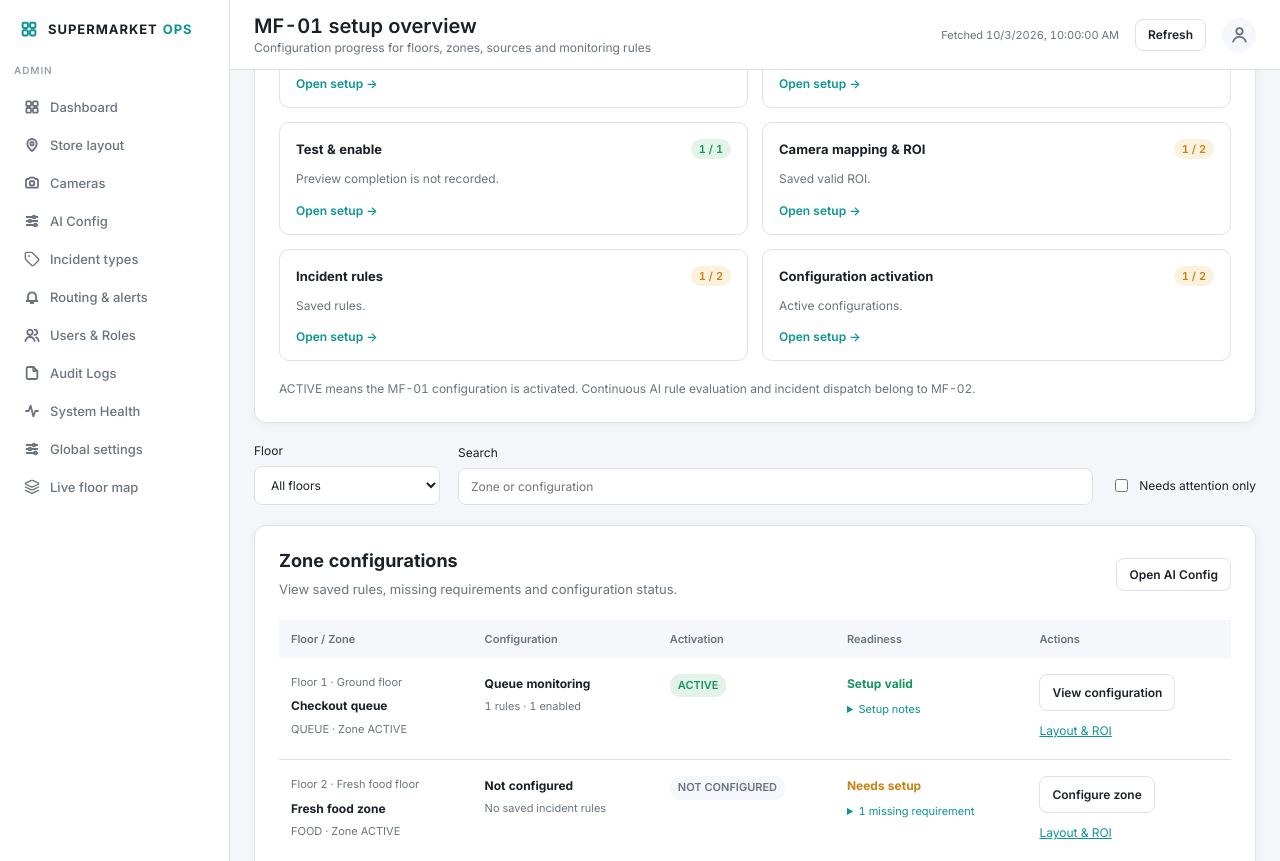
Test: MF-01 setup dashboard › filters zones by floor, search and missing setup
(page scrolled)
Check: the text "Checkout queue" is shown, box [291,698,388,713]
Select "Floor 2 · Fresh food floor" in the dropdown named "Filter dashboard by floor" at (347, 485), box [254,466,440,505]
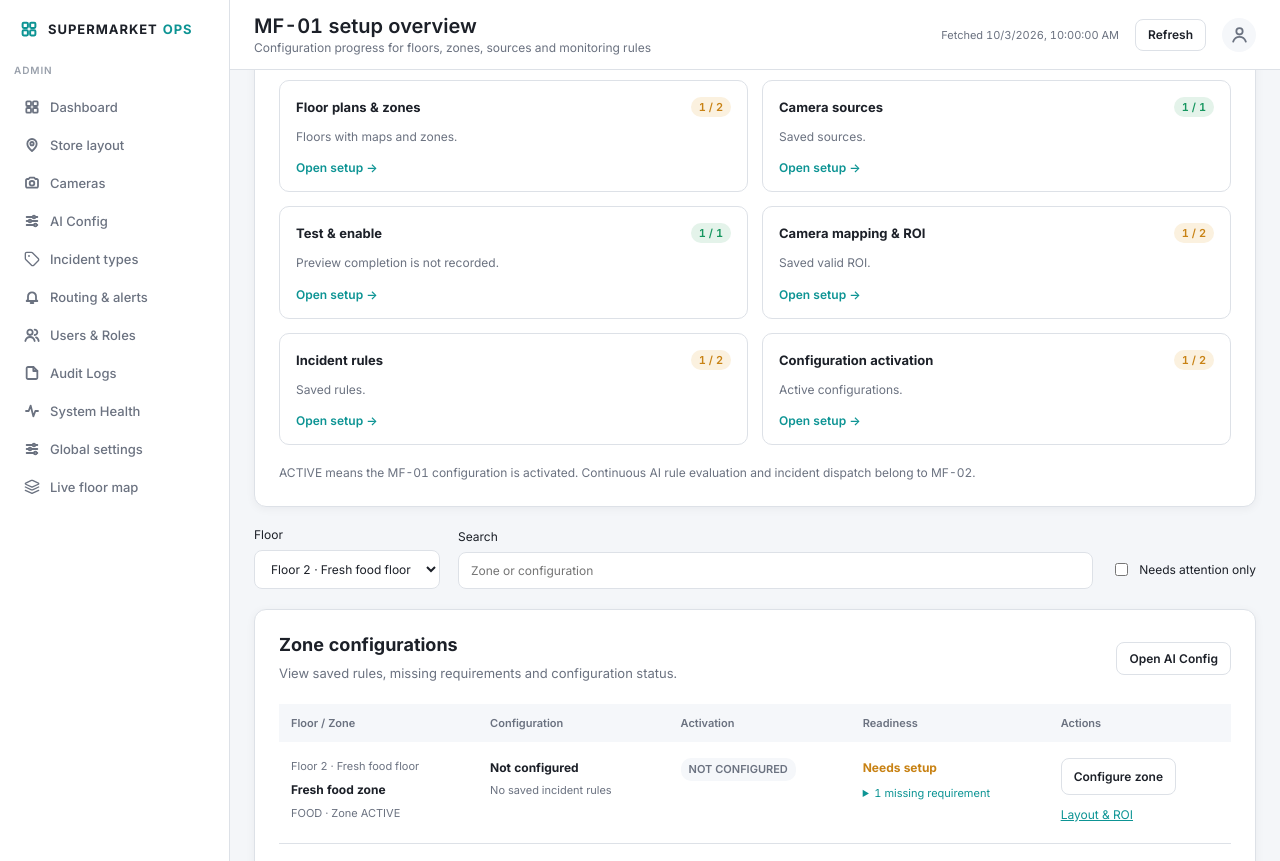
Check: the text "Fresh food zone" is shown, box [291,782,386,797]
Check: the text "Checkout queue" is gone
Select "All floors" in the dropdown named "Filter dashboard by floor" at (347, 569), box [254,550,440,589]
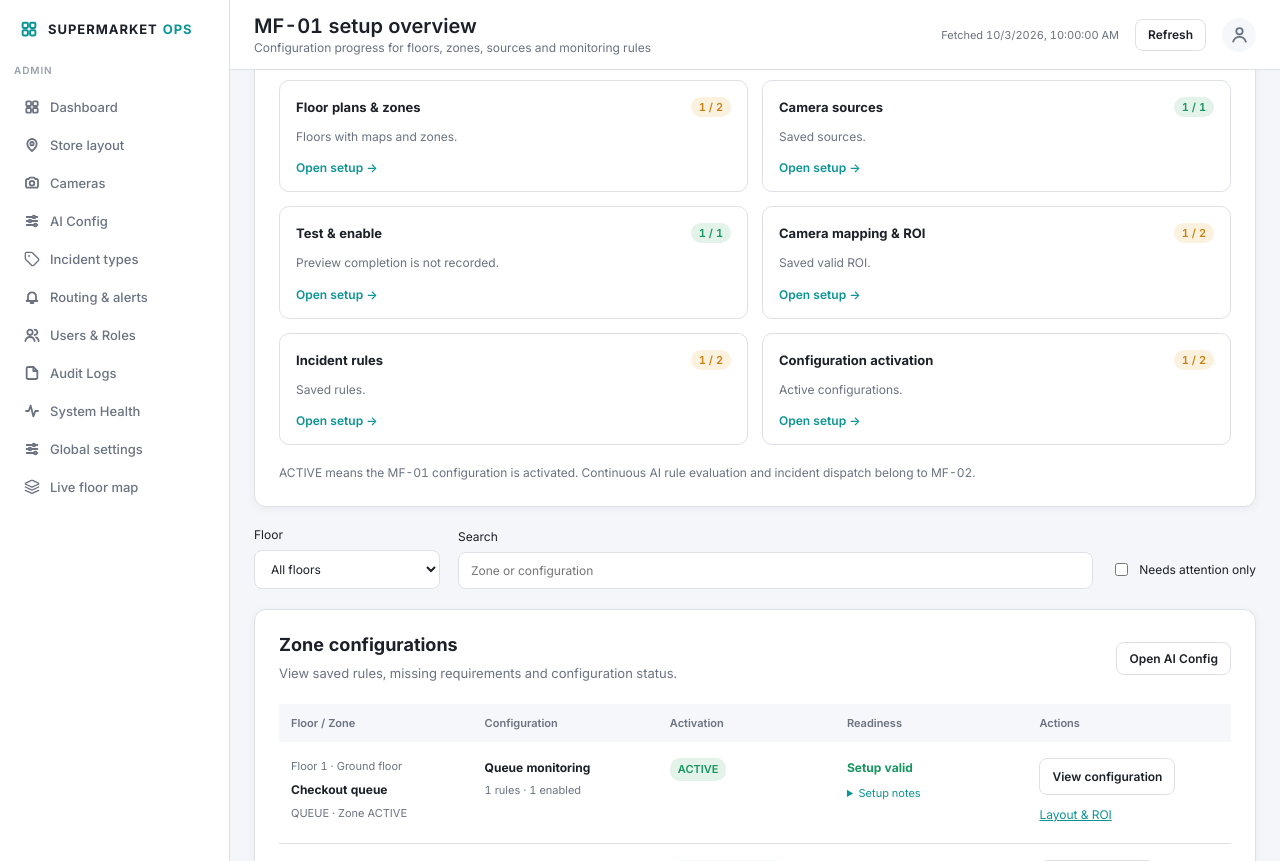
Type "Queue monitoring" into the field named "Search zones" at (776, 570), box [458,552,1093,589]
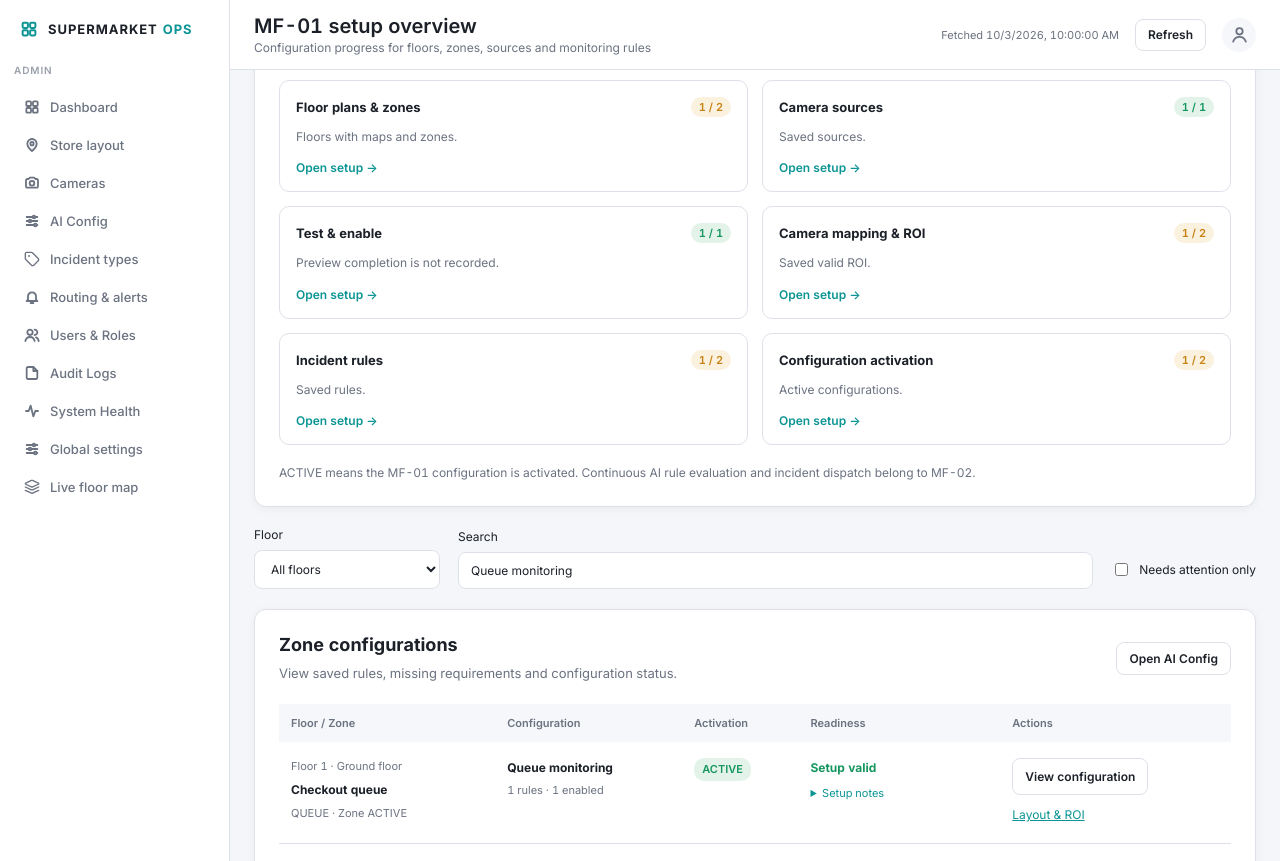
Check: the text "Checkout queue" is shown, box [291,782,388,797]
Clear the field named "Search zones" at (776, 570), box [458,552,1093,589]
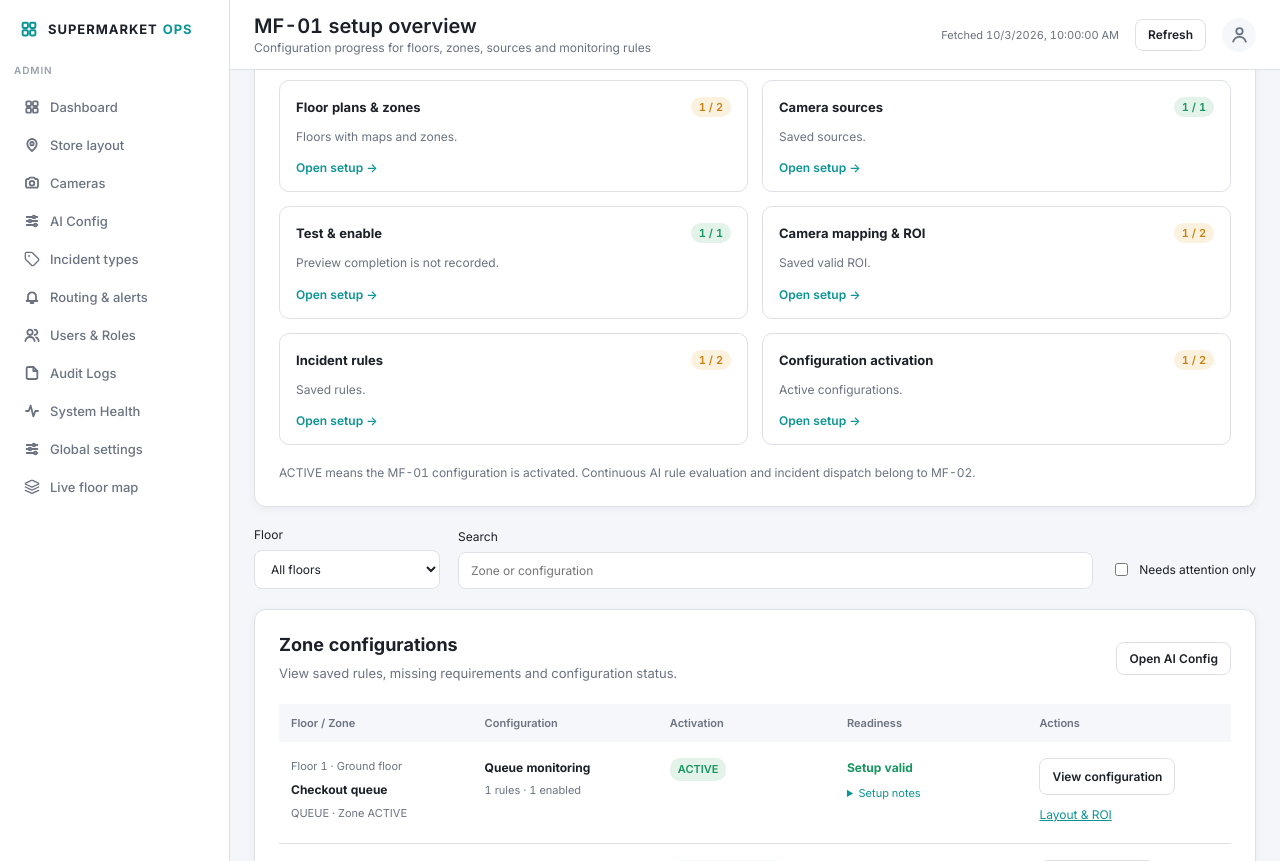
Click the checkbox labelled "Needs attention only" at (1122, 569), box [1115,563,1128,576]
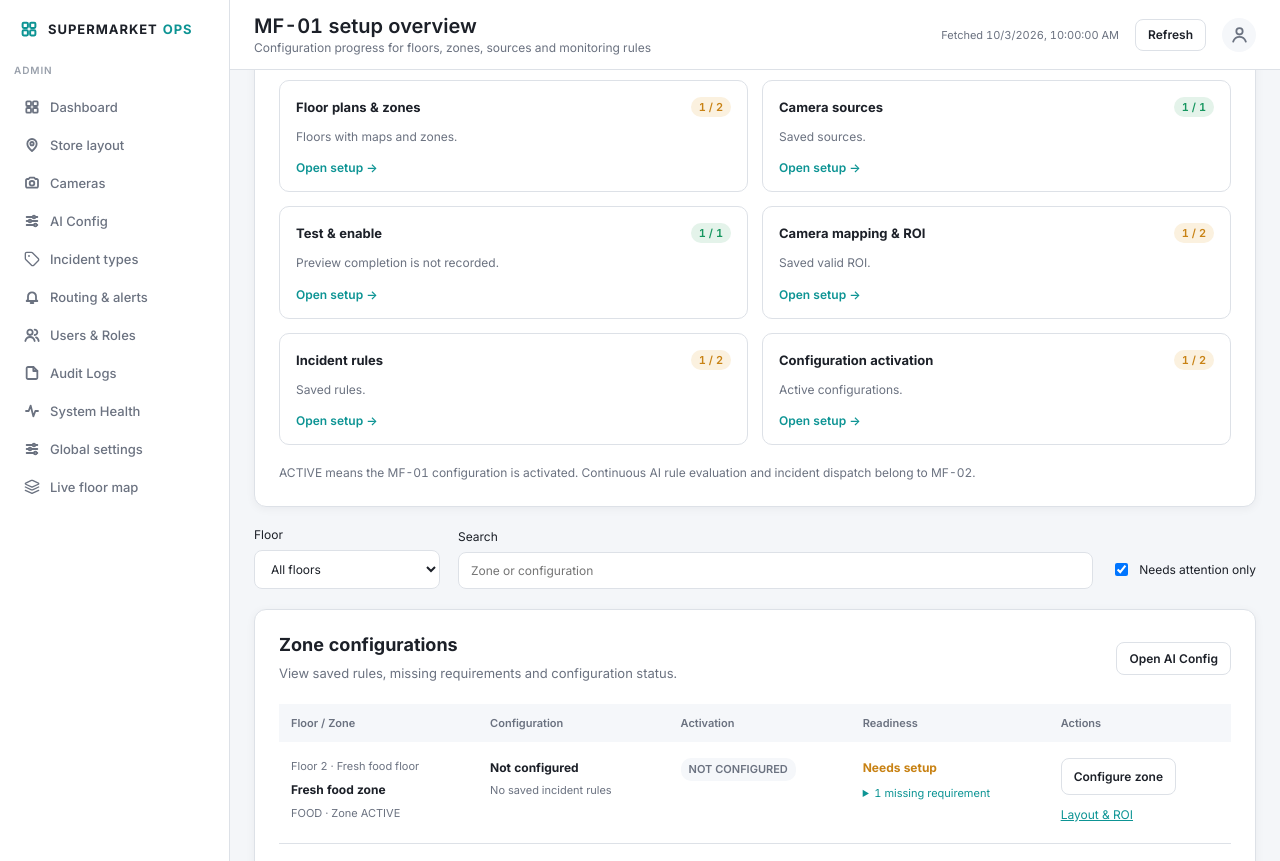
Check: the text "Fresh food zone" is shown, box [291,782,386,797]
Check: the text "Checkout queue" is gone
Click the heading "1 missing requirement" at (932, 793), box [874,786,990,800]
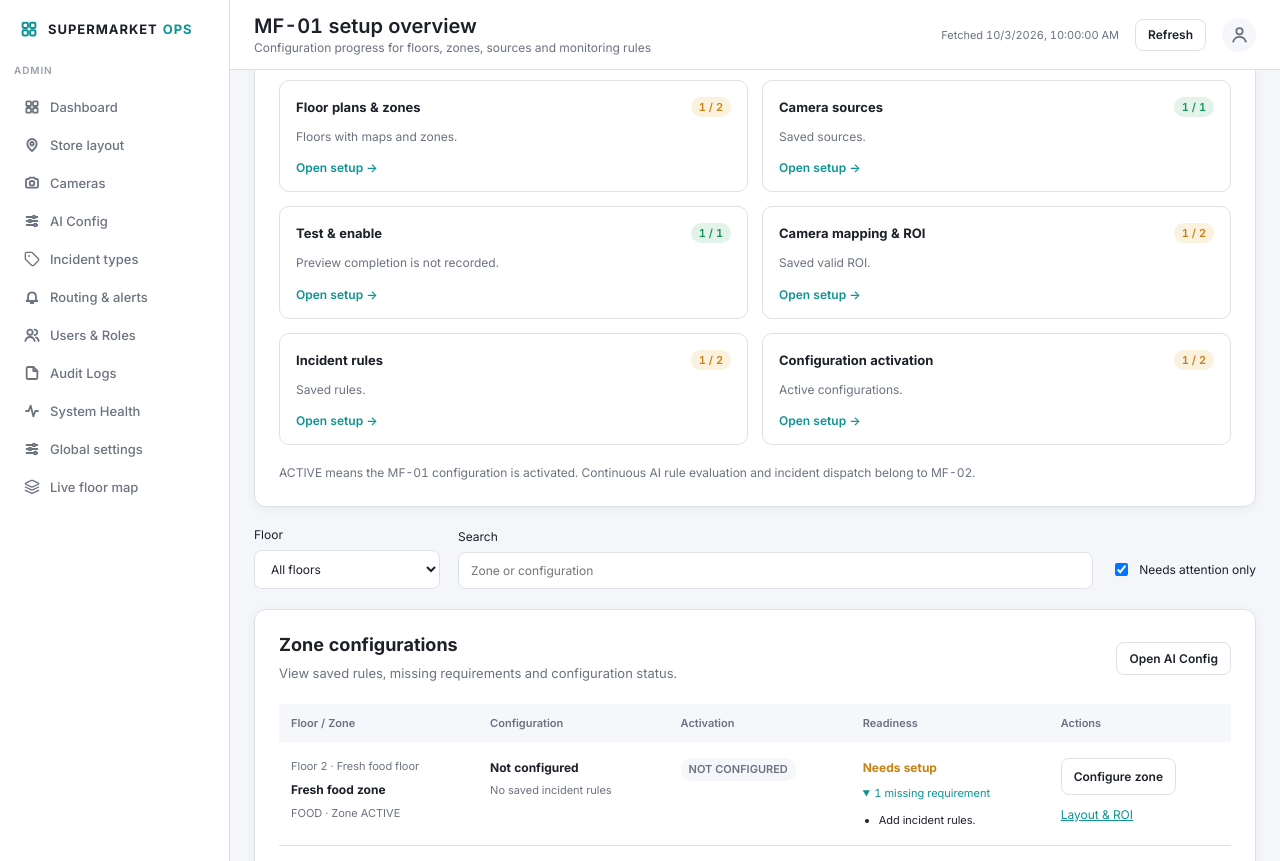
Check: the list item "Add incident rules." is shown, box [879,812,976,826]
